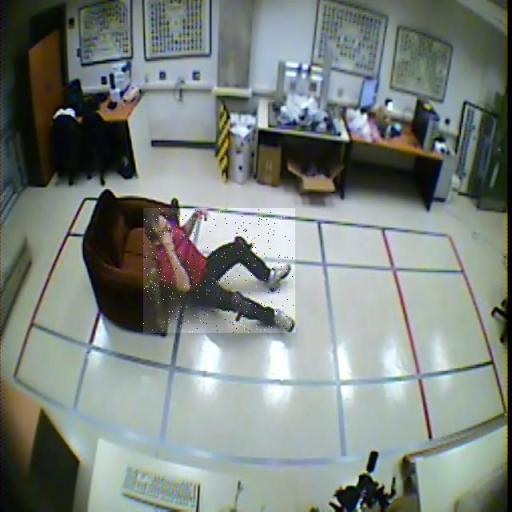Fall: (143, 208, 295, 333)
